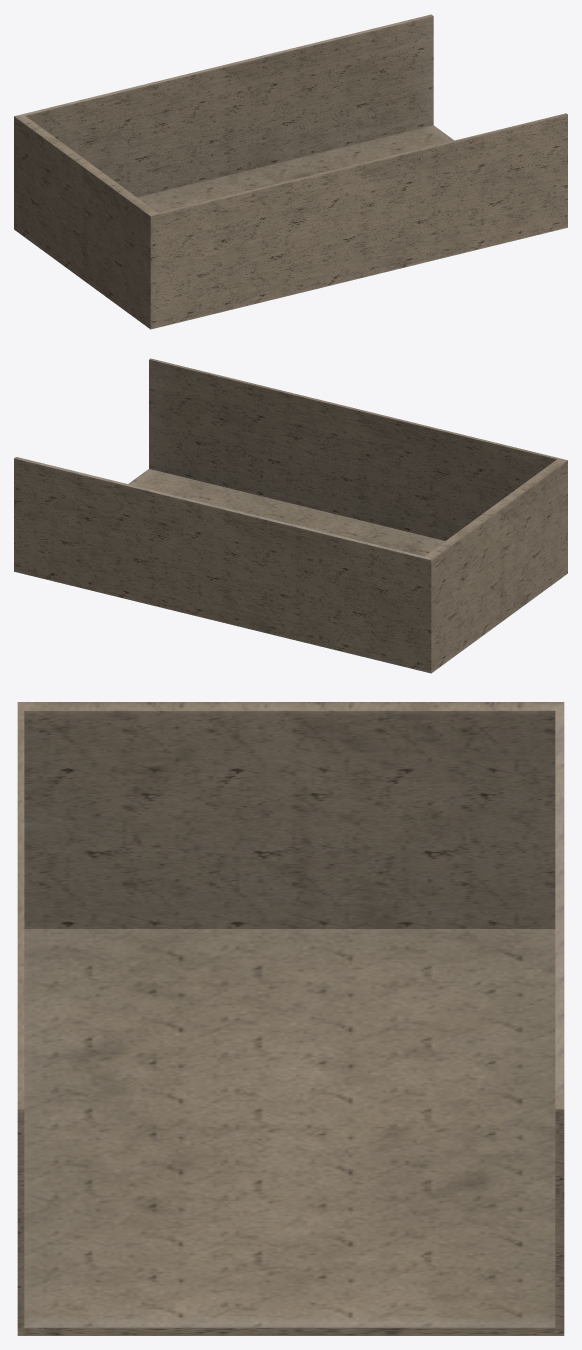
File: Room.fbx
The picture shows the model from 3 angles, top to bottom: view 1: azimuth 30°, elevation 25°; view 2: azimuth 150°, elevation 25°; view 3: azimuth 270°, elevation 25°; orthographic projection. The views are drawn at different scales.
Parts seen in each view (by area): view 1: 立方体.006; view 2: 立方体.006; view 3: 立方体.006.
Part boxes in pixels (bbox=[...]): 立方体.006: bbox=[14, 14, 567, 329]; 立方体.006: bbox=[14, 358, 567, 673]; 立方体.006: bbox=[17, 702, 564, 1335].
Size of the model in its own units: 1624 by 421 by 921.
